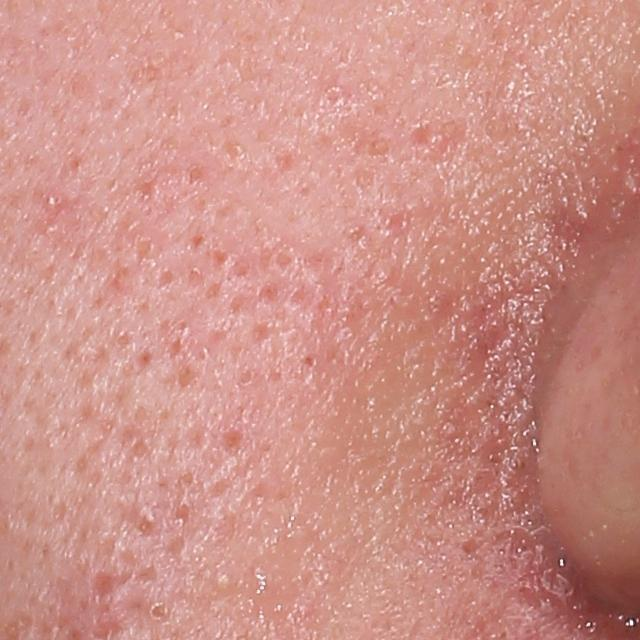atrophic_scar: (90, 569, 114, 604)
comedo: (210, 570, 234, 593), (149, 599, 170, 619)
